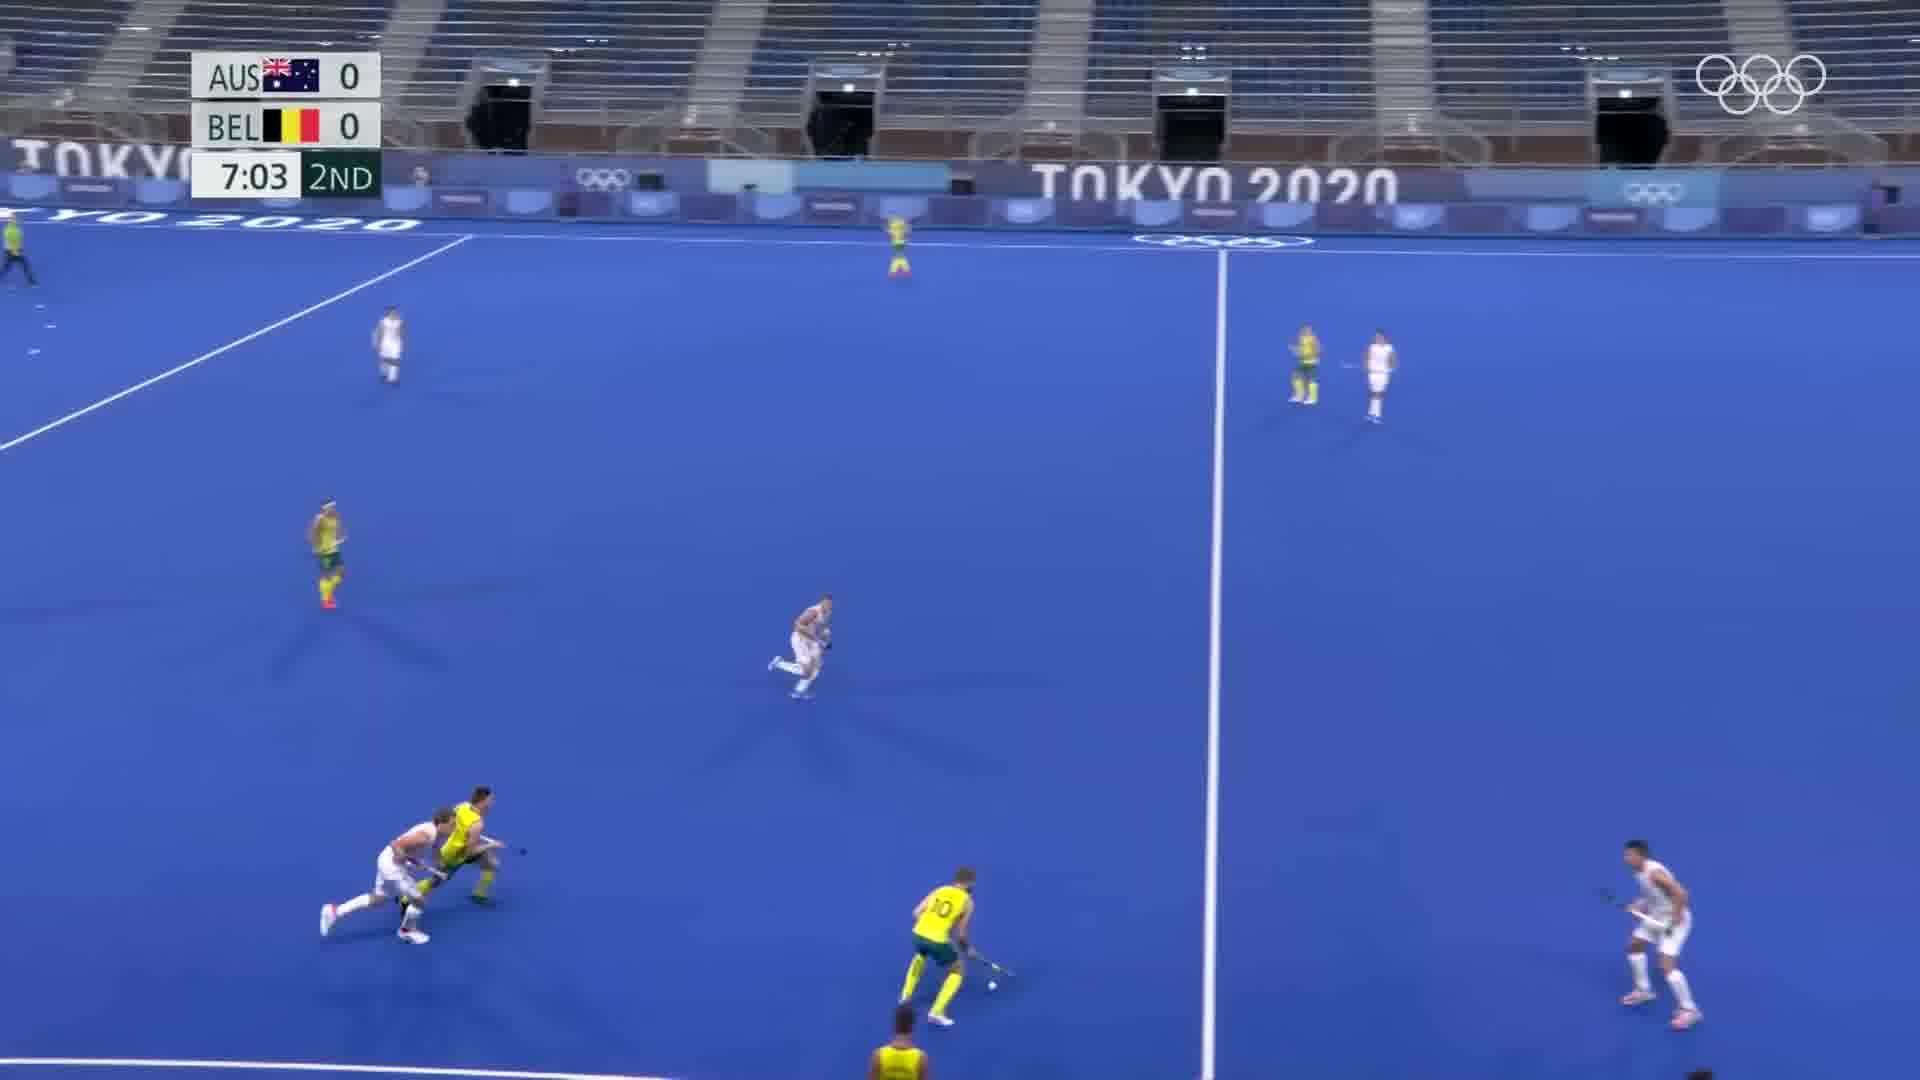ball: (984, 977, 1004, 994)
